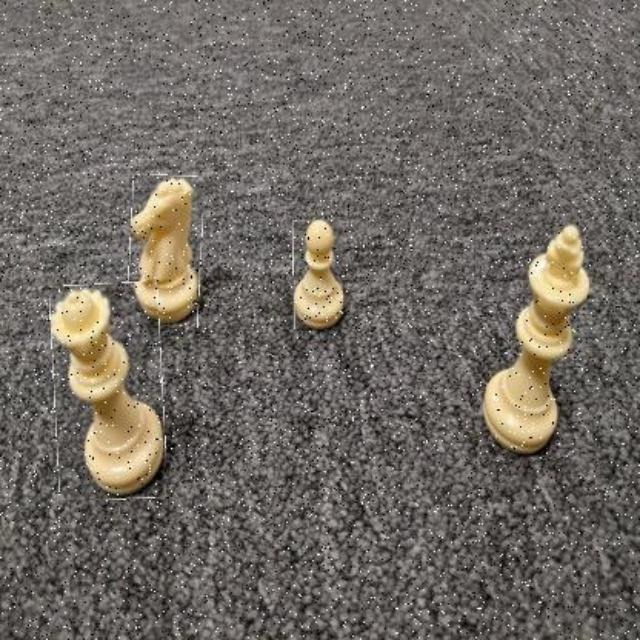white-king: (483, 220, 593, 460)
white-knight: (128, 175, 203, 327)
white-pawn: (293, 220, 345, 330)
white-queen: (52, 283, 165, 501)
